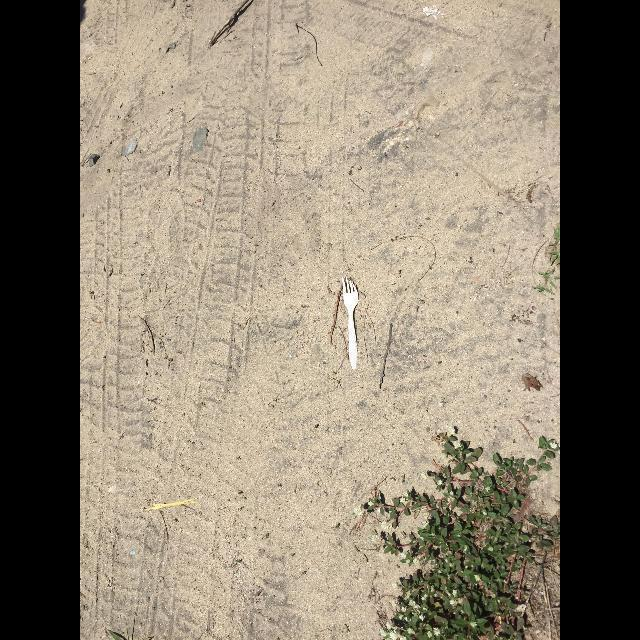Plastic: (343, 277, 359, 369)
